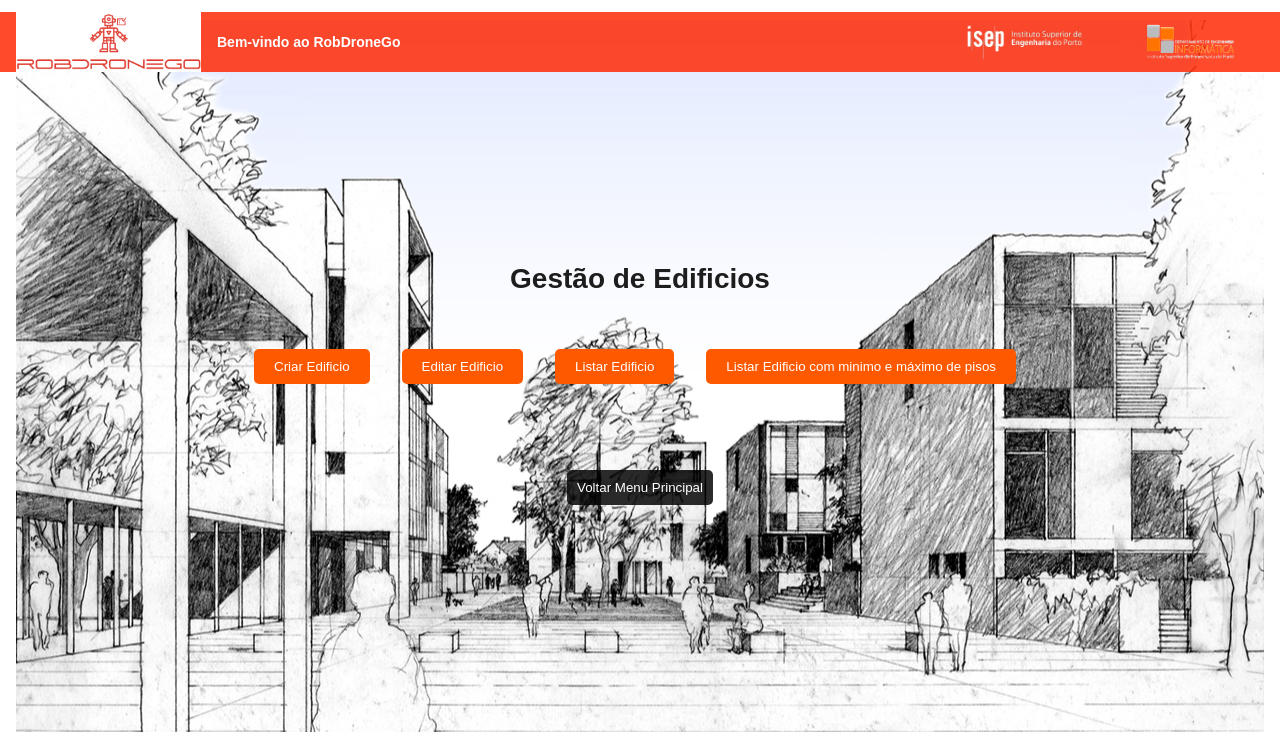
Test case: List Building Component › should handle errors when loading buildings
Click the button with id "btnListarEdificio".
click(615, 367)  # box x1=555 y1=349 x2=674 y2=384
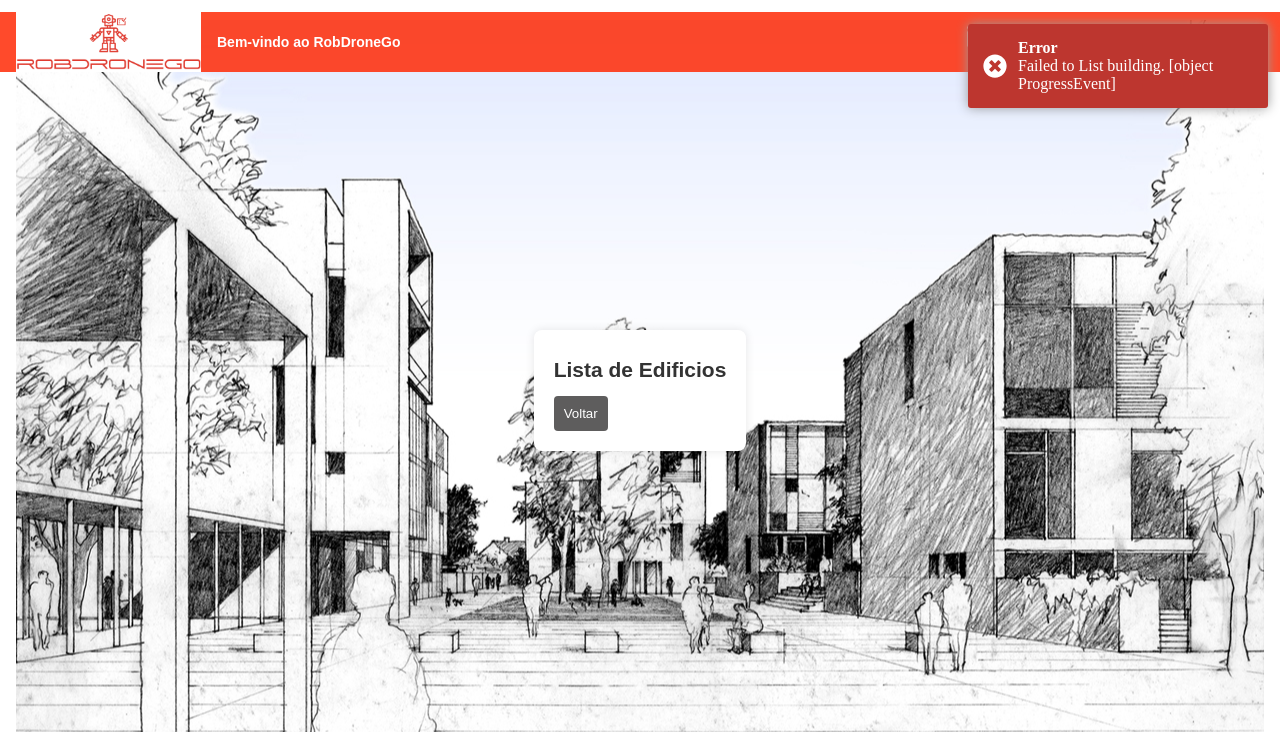
Reload the page
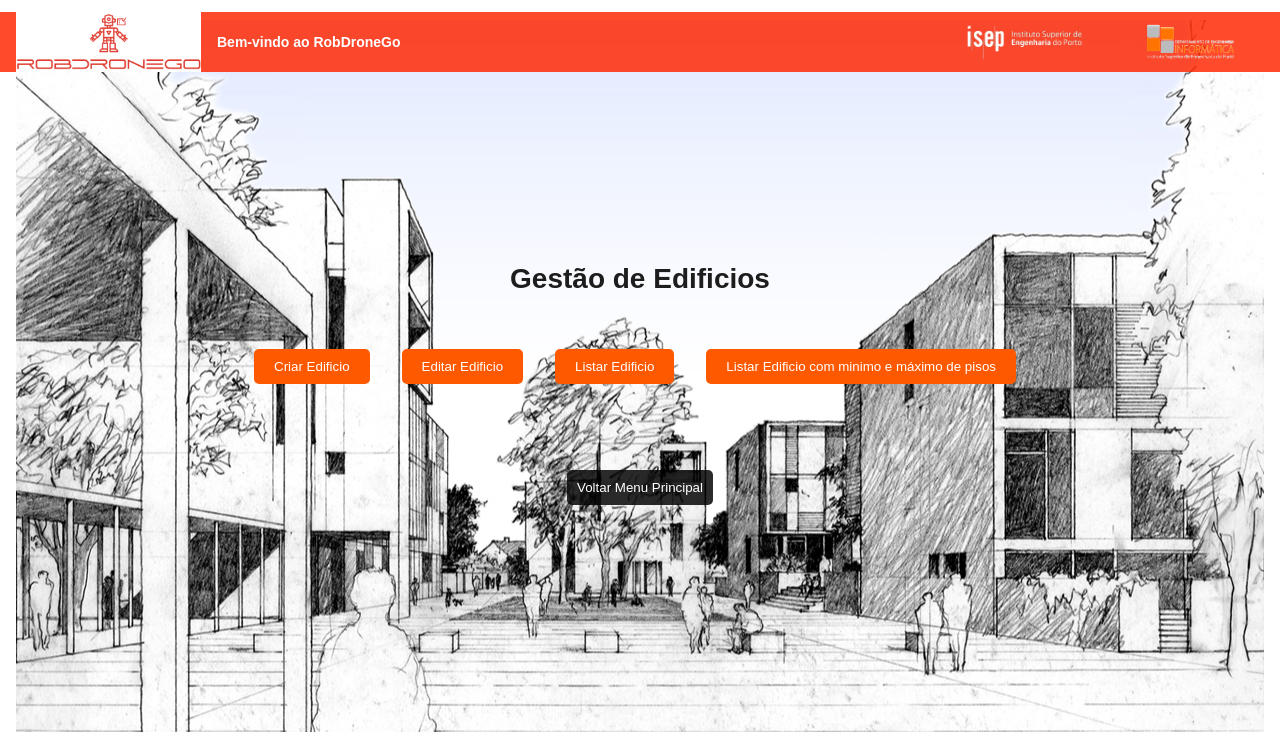
Click the button with id "btnListarEdificio".
click(615, 367)  # box x1=555 y1=349 x2=674 y2=384
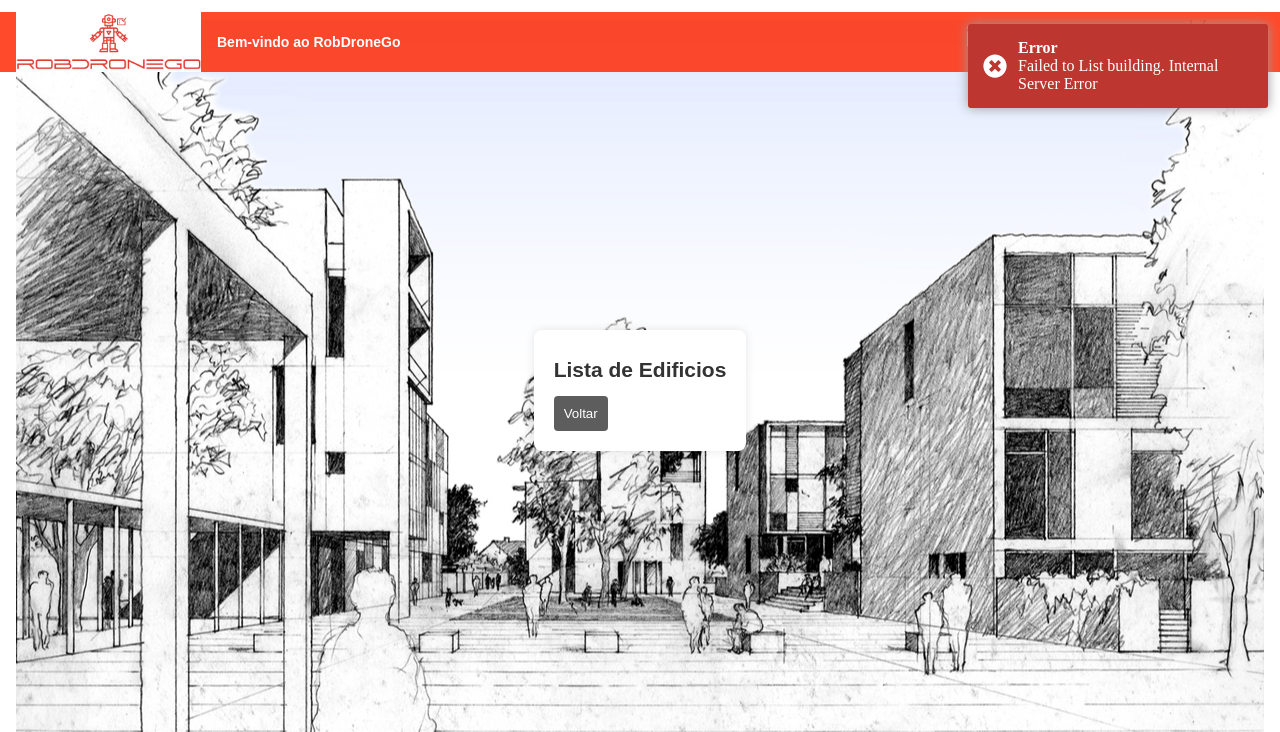
expect the element with class "toast-error" is shown: met, box x1=968 y1=24 x2=1268 y2=108
